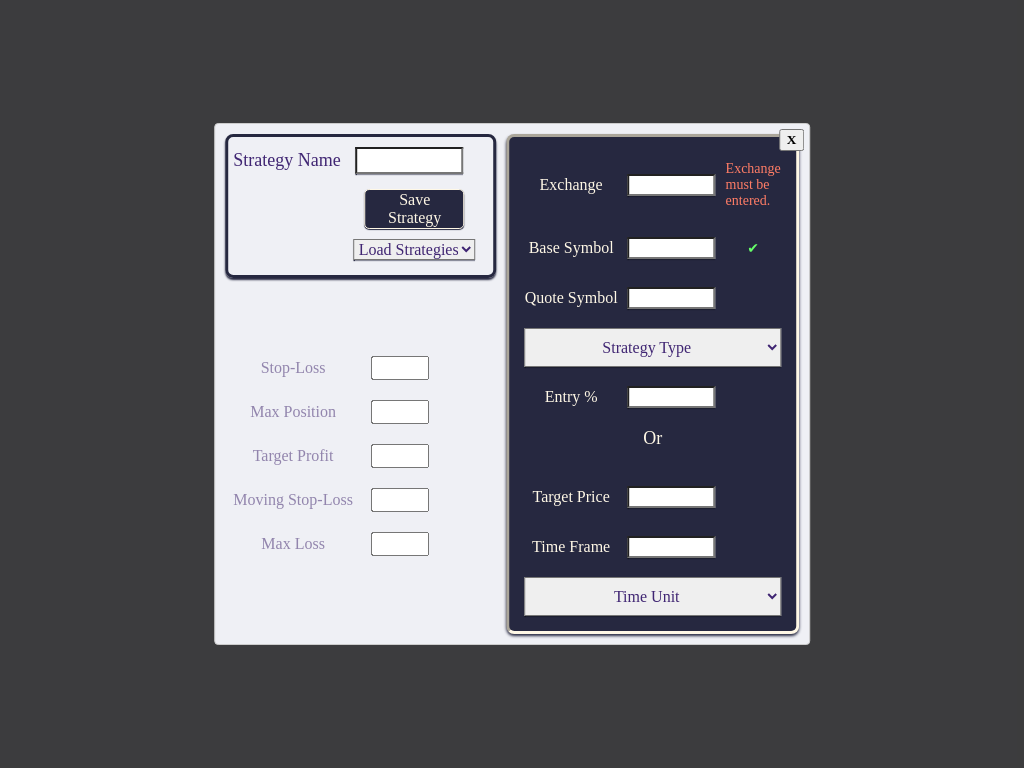
Test: modal actions › should return error message when exchange is not compatible
Type "krake" into the field labelled "Exchange". click: (672, 185)
box: [628,174,716,196]
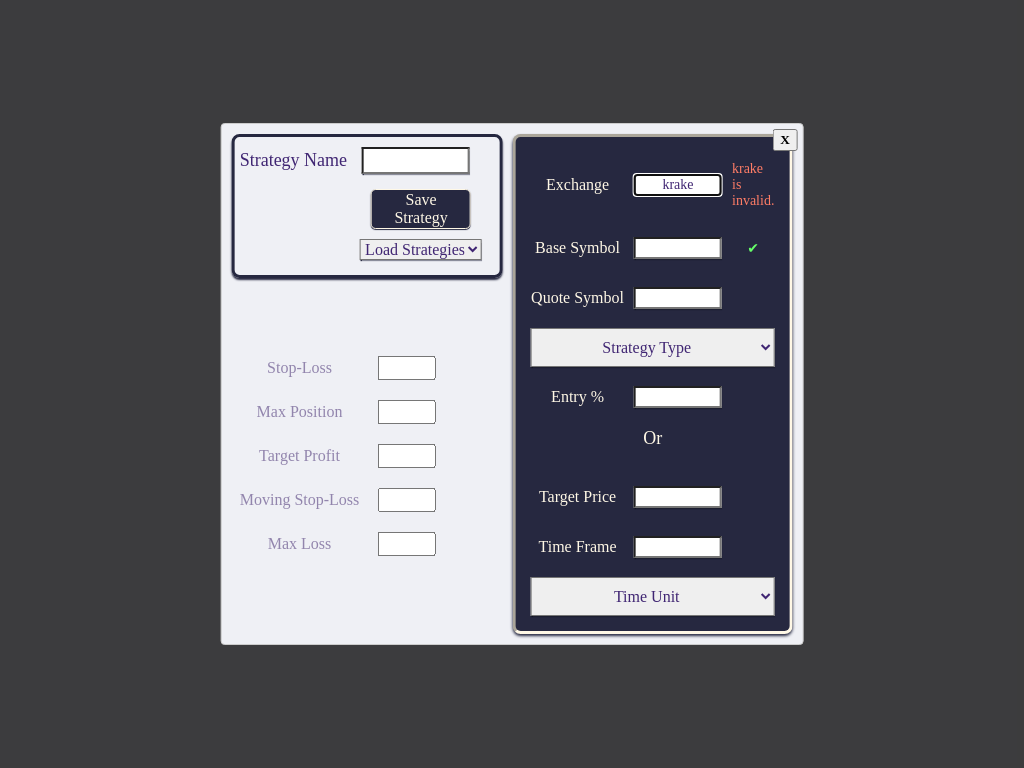
Expected: the text with test id "exchangeResponse" reads "krake is invalid.", [732,161,774,208]
